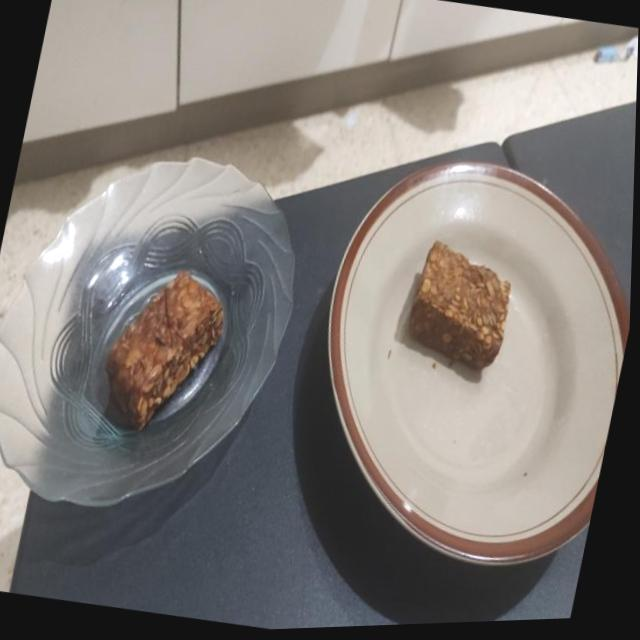tempe_goreng: (105, 272, 222, 428), (409, 241, 510, 370)
